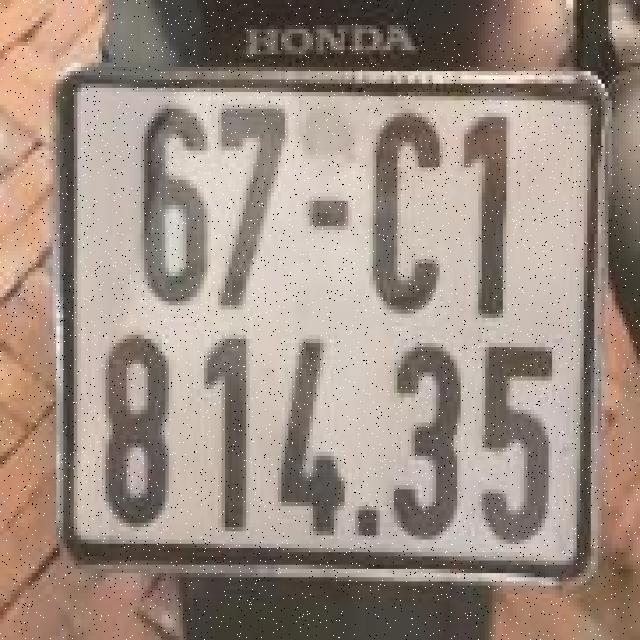1: (456, 79, 544, 339), (202, 326, 262, 544)
3: (394, 316, 468, 554)
4: (271, 320, 355, 550)
5: (476, 326, 575, 552)
6: (121, 96, 213, 310)
7: (207, 92, 292, 314)
8: (91, 314, 183, 531)
C: (359, 100, 450, 318)
